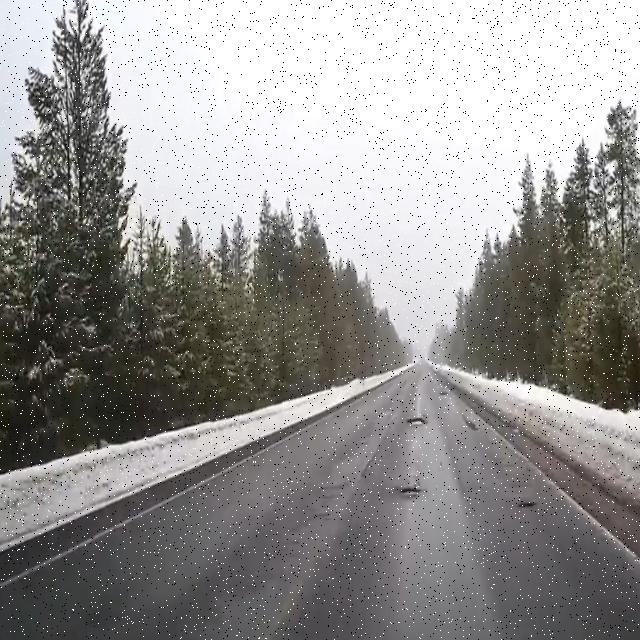pothole: (398, 486, 423, 499), (405, 415, 427, 428), (517, 501, 538, 508)
